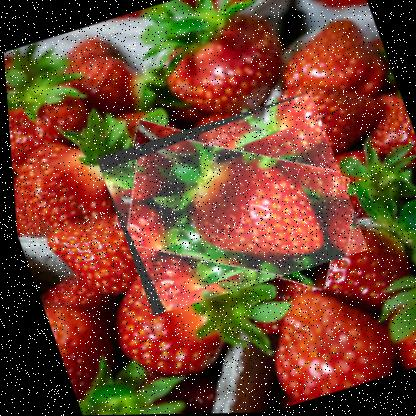strawberry: (88, 91, 367, 318)
